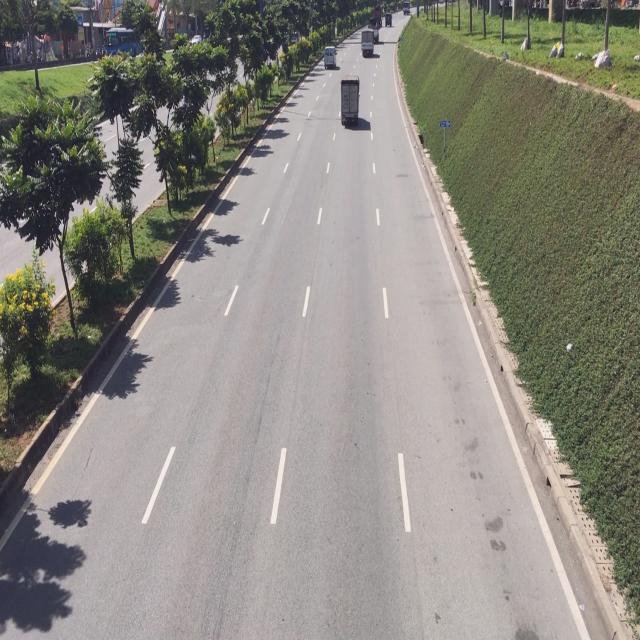bus: (323, 44, 337, 70)
truck: (342, 74, 361, 129), (360, 30, 374, 59)
